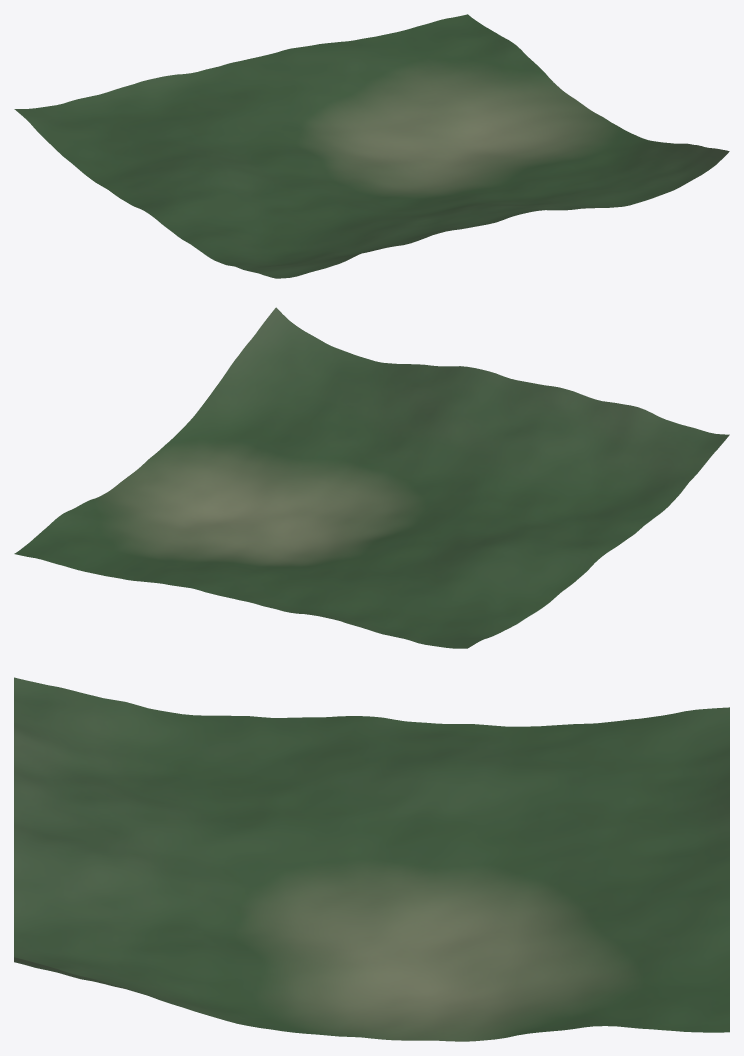
The model's file is chunk_2_2.obj.
The picture shows the model from 3 angles, top to bottom: view 1: azimuth 30°, elevation 25°; view 2: azimuth 150°, elevation 25°; view 3: azimuth 270°, elevation 25°; orthographic projection. The views are drawn at different scales.
Visible parts, largest first — view 1: chunk_2_2.obj; view 2: chunk_2_2.obj; view 3: chunk_2_2.obj.
Part boxes in pixels (x1,y1,x2,y2): chunk_2_2.obj: [14, 14, 729, 278]; chunk_2_2.obj: [14, 307, 729, 648]; chunk_2_2.obj: [14, 677, 729, 1041].
Size of the model in its own units: 64 by 9.77 by 64.
1 material, 1 textured.
